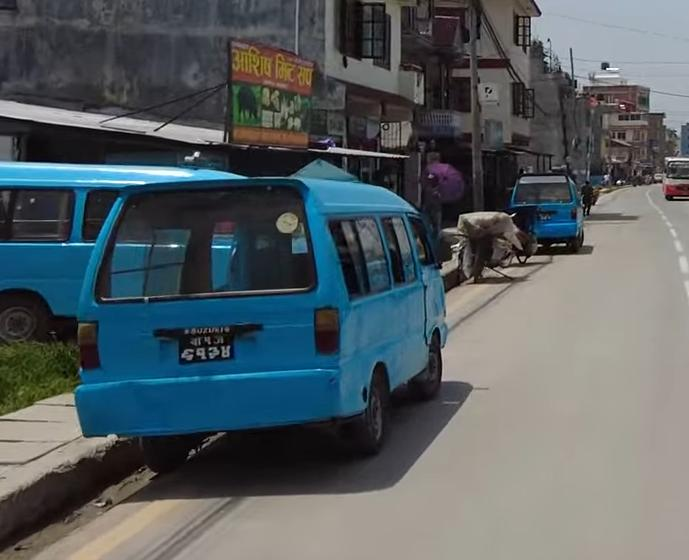bus: (658, 144, 689, 207)
van: (65, 174, 463, 471), (501, 173, 594, 253)
